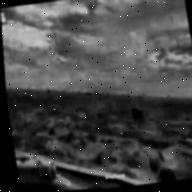boar: (127, 106, 144, 123)
